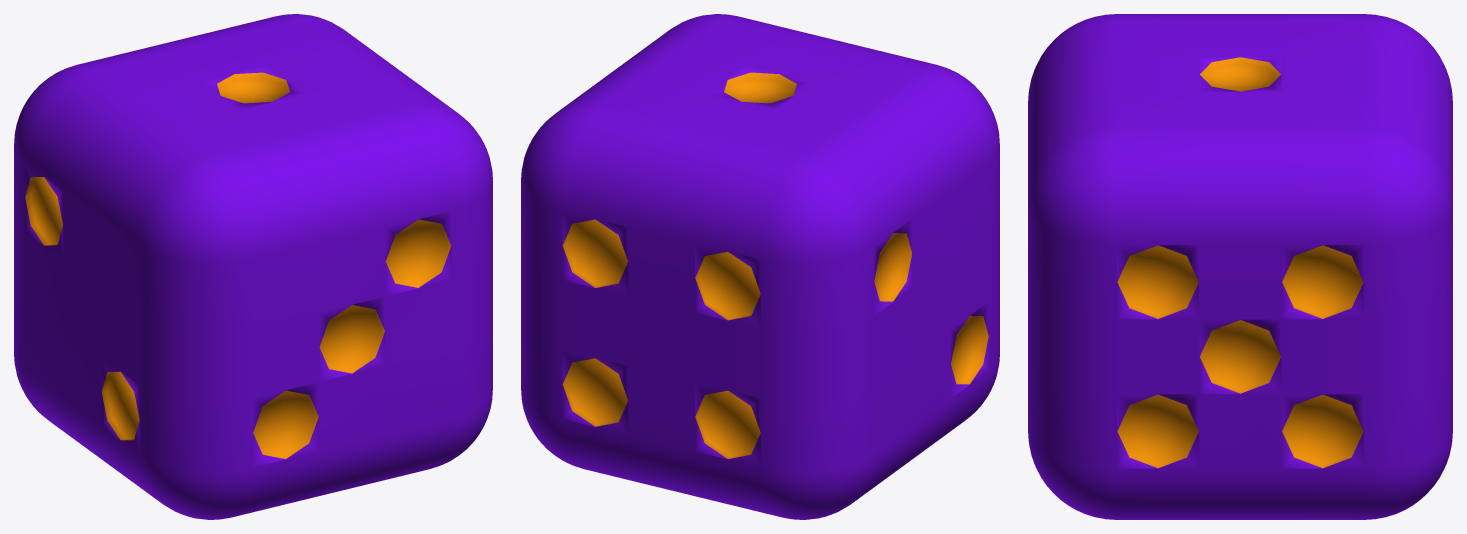
Rendered from dice.glb.
3 views of the same model, side by side, from view 1: azimuth 30°, elevation 25°; view 2: azimuth 150°, elevation 25°; view 3: azimuth 270°, elevation 25° (orthographic). The views are drawn at different scales.
Visible parts, largest first — view 1: Cube.027; view 2: Cube.027; view 3: Cube.027.
Part boxes in pixels (x1,y1,x2,y2): Cube.027: (14, 14, 492, 519); Cube.027: (521, 14, 999, 519); Cube.027: (1028, 14, 1452, 519).
Size of the model in its own units: 1.27 by 1.27 by 1.27.
